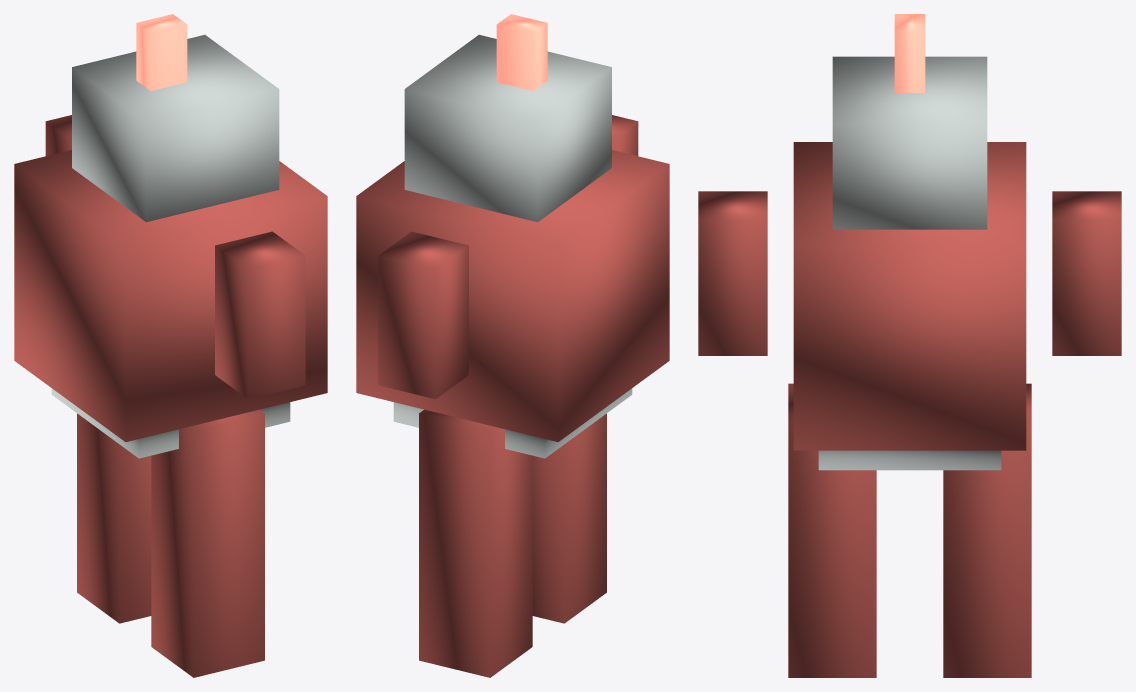
Rendered from enemy-boss-lod2.glb.
3 renders of one model, left to right at view 1: azimuth 30°, elevation 25°; view 2: azimuth 150°, elevation 25°; view 3: azimuth 270°, elevation 25°, orthographic. The views are drawn at different scales.
Parts seen in each view (by area): view 1: torso-shell-mobile, helmet, leg-left, arm-left, leg-right, boss-command-crest, hip-shell-mobile, arm-right; view 2: torso-shell-mobile, helmet, leg-right, arm-right, leg-left, boss-command-crest, hip-shell-mobile, arm-left; view 3: torso-shell-mobile, helmet, leg-left, leg-right, arm-left, arm-right, hip-shell-mobile, boss-command-crest.
Boxes of the visible parts, x1,y1,x2,y2 form: torso-shell-mobile: [14, 150, 327, 441]; helmet: [72, 34, 279, 222]; leg-left: [151, 409, 264, 677]; arm-left: [215, 231, 305, 399]; leg-right: [77, 413, 151, 623]; boss-command-crest: [136, 14, 187, 90]; hip-shell-mobile: [51, 388, 290, 458]; arm-right: [45, 115, 71, 155]; torso-shell-mobile: [356, 150, 669, 441]; helmet: [404, 34, 611, 222]; leg-right: [419, 409, 532, 677]; arm-right: [378, 231, 468, 399]; leg-left: [532, 413, 606, 623]; boss-command-crest: [496, 14, 547, 90]; hip-shell-mobile: [393, 388, 632, 458]; arm-left: [612, 115, 638, 155]; torso-shell-mobile: [793, 142, 1026, 450]; helmet: [832, 56, 987, 229]; leg-left: [788, 383, 876, 677]; leg-right: [943, 383, 1031, 677]; arm-left: [698, 191, 767, 355]; arm-right: [1052, 191, 1121, 355]; hip-shell-mobile: [818, 450, 1001, 470]; boss-command-crest: [894, 14, 925, 92].
Size of the model in its own units: 0.88 by 2.52 by 1.53.
